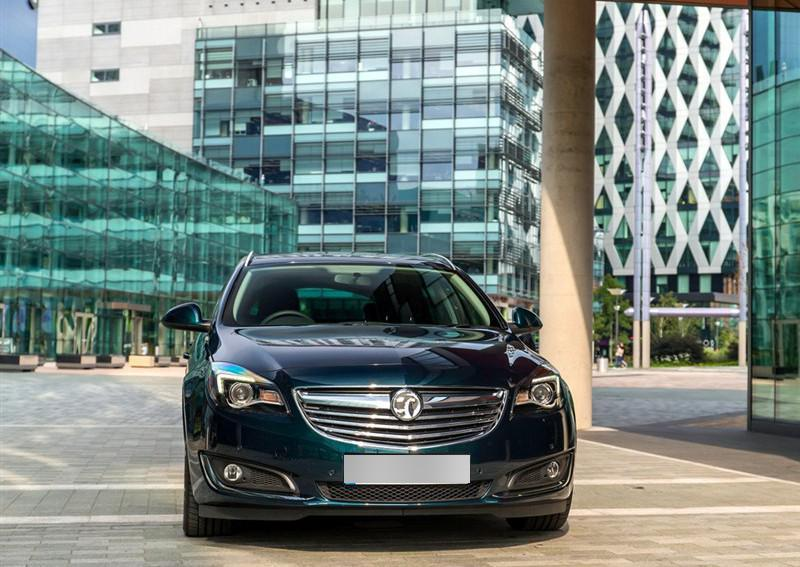Wagon: (161, 250, 578, 537)
